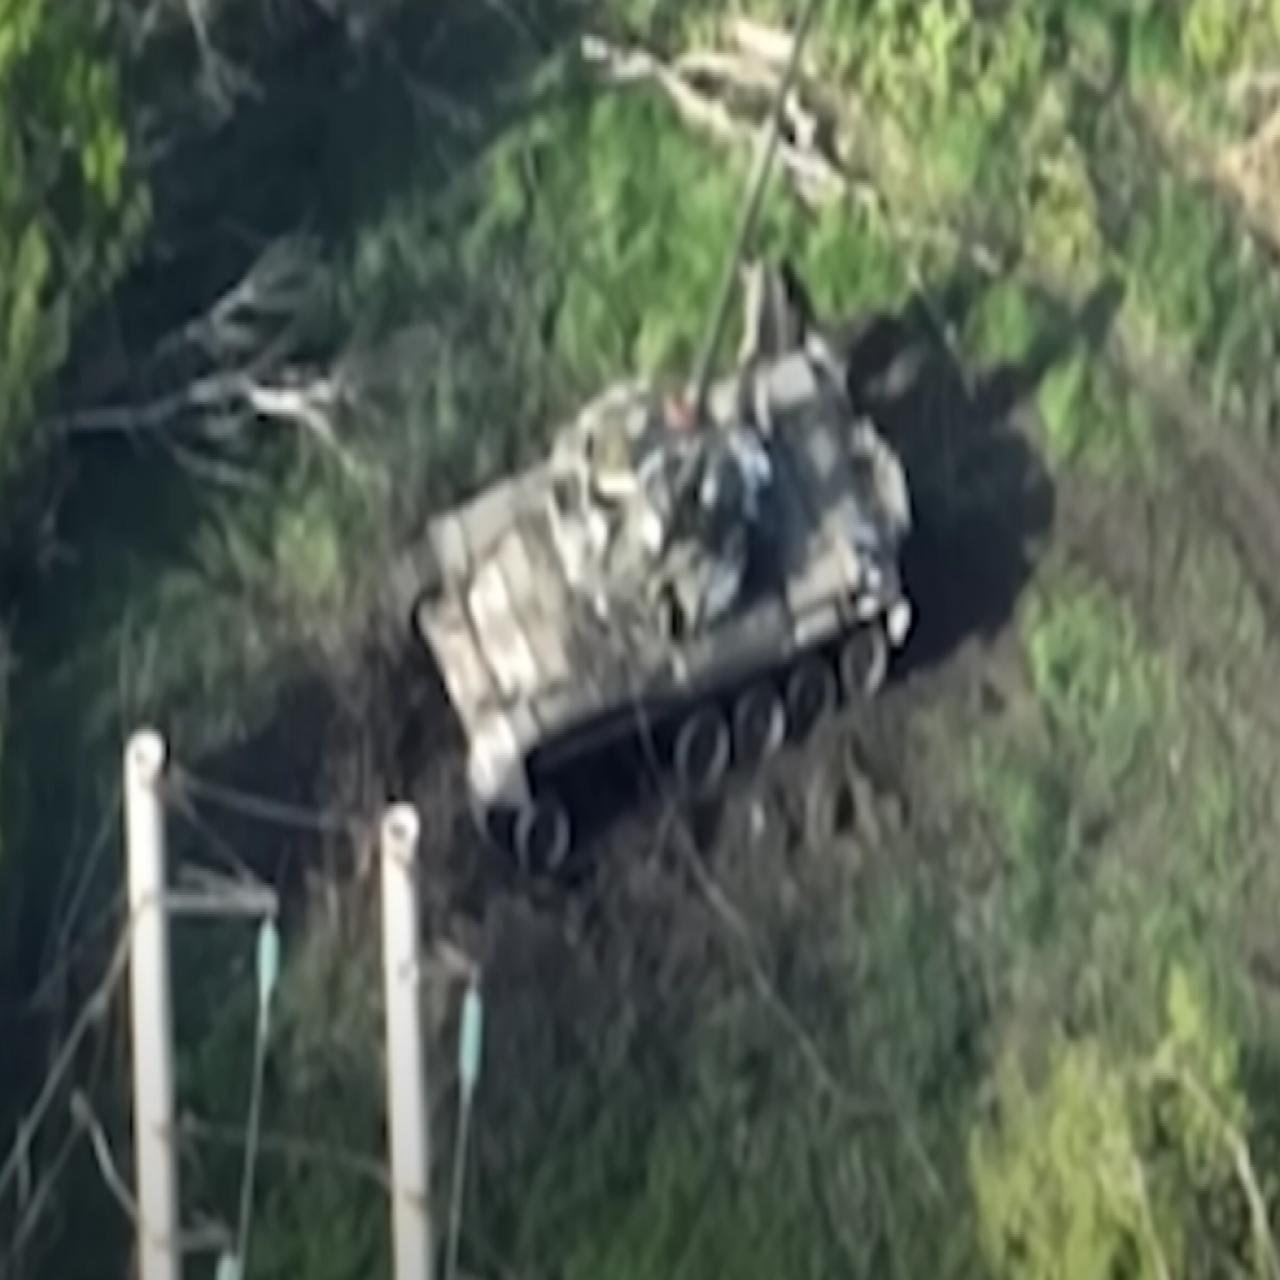MIL_Veh: (389, 0, 906, 849)
